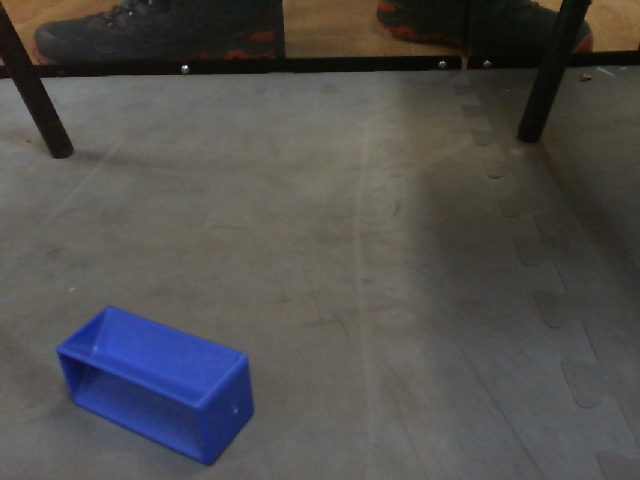BlueSample: (48, 301, 264, 469)
